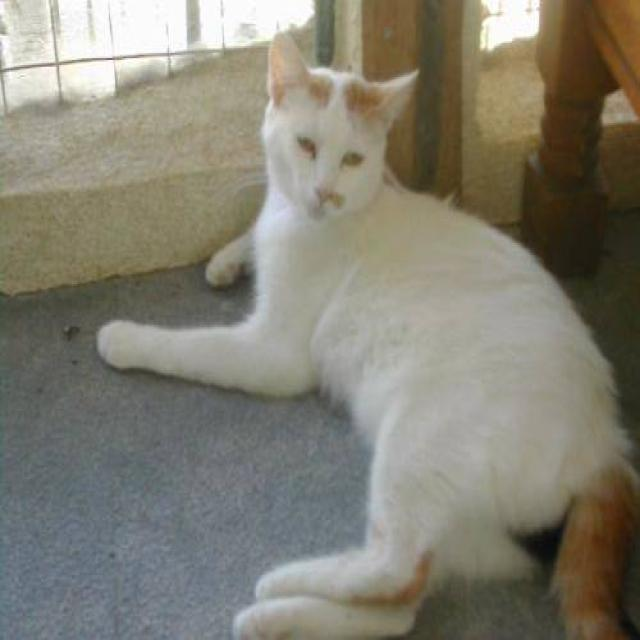cat: (94, 29, 638, 638)
